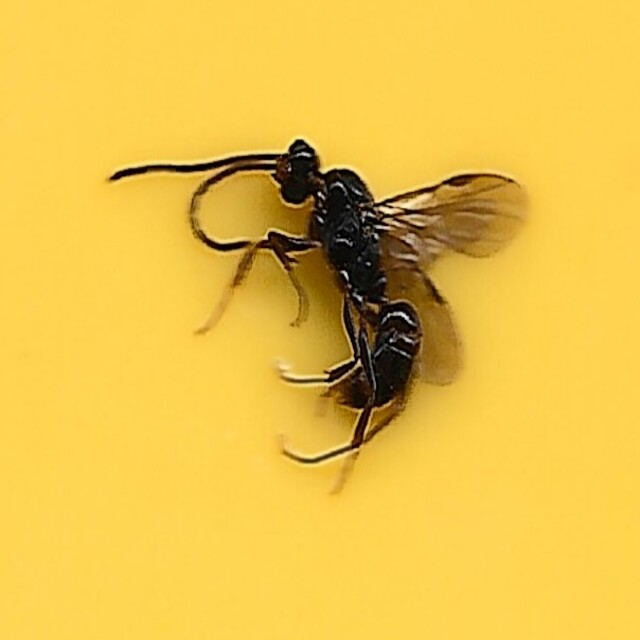Hymenoptera: (106, 138, 534, 502)
